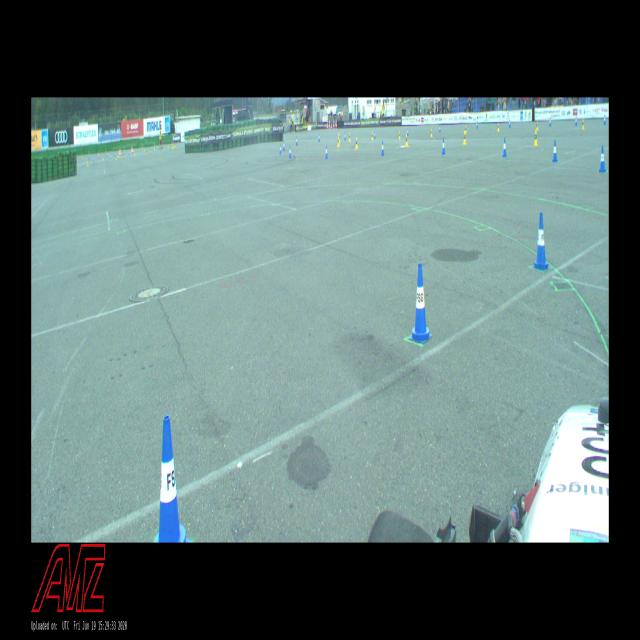blue_cone: (154, 414, 192, 543), (408, 263, 432, 344), (532, 212, 550, 272), (598, 145, 606, 173), (552, 140, 558, 163), (502, 137, 507, 157), (441, 137, 446, 156), (380, 140, 384, 156), (288, 145, 292, 159), (282, 139, 286, 152), (325, 145, 328, 159), (279, 143, 282, 155), (603, 114, 606, 126), (295, 136, 298, 146), (549, 118, 552, 126), (575, 116, 577, 126), (318, 133, 320, 142), (344, 132, 346, 141), (374, 130, 376, 139), (509, 119, 511, 128)
yellow_cone: (533, 128, 538, 146), (404, 133, 408, 147), (463, 130, 466, 146), (355, 136, 358, 150), (337, 135, 340, 147), (348, 132, 351, 142), (398, 131, 401, 140), (582, 119, 584, 130), (371, 131, 373, 141), (430, 128, 432, 138), (497, 123, 499, 132)
